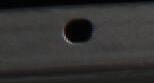holes: (62, 17, 94, 44)
